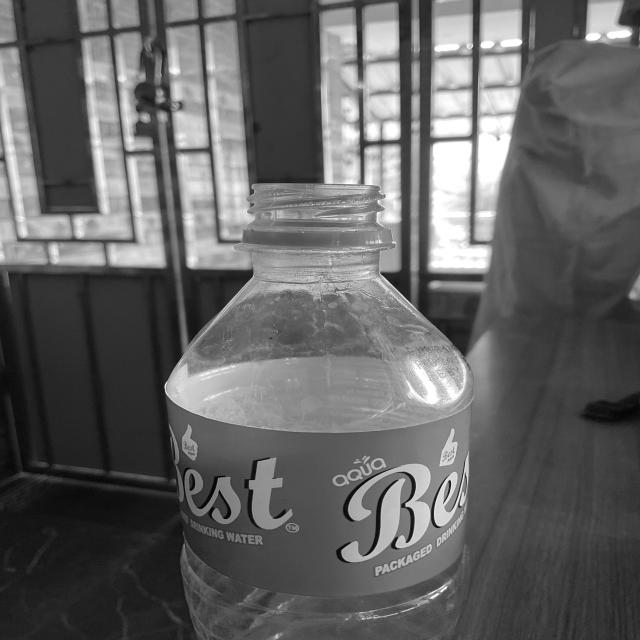open-cap: (242, 182, 394, 244)
